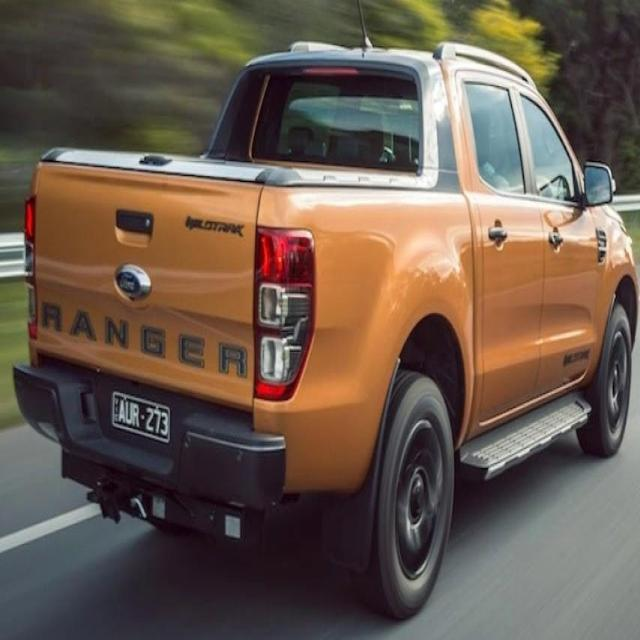CMT: (13, 49, 635, 622)
